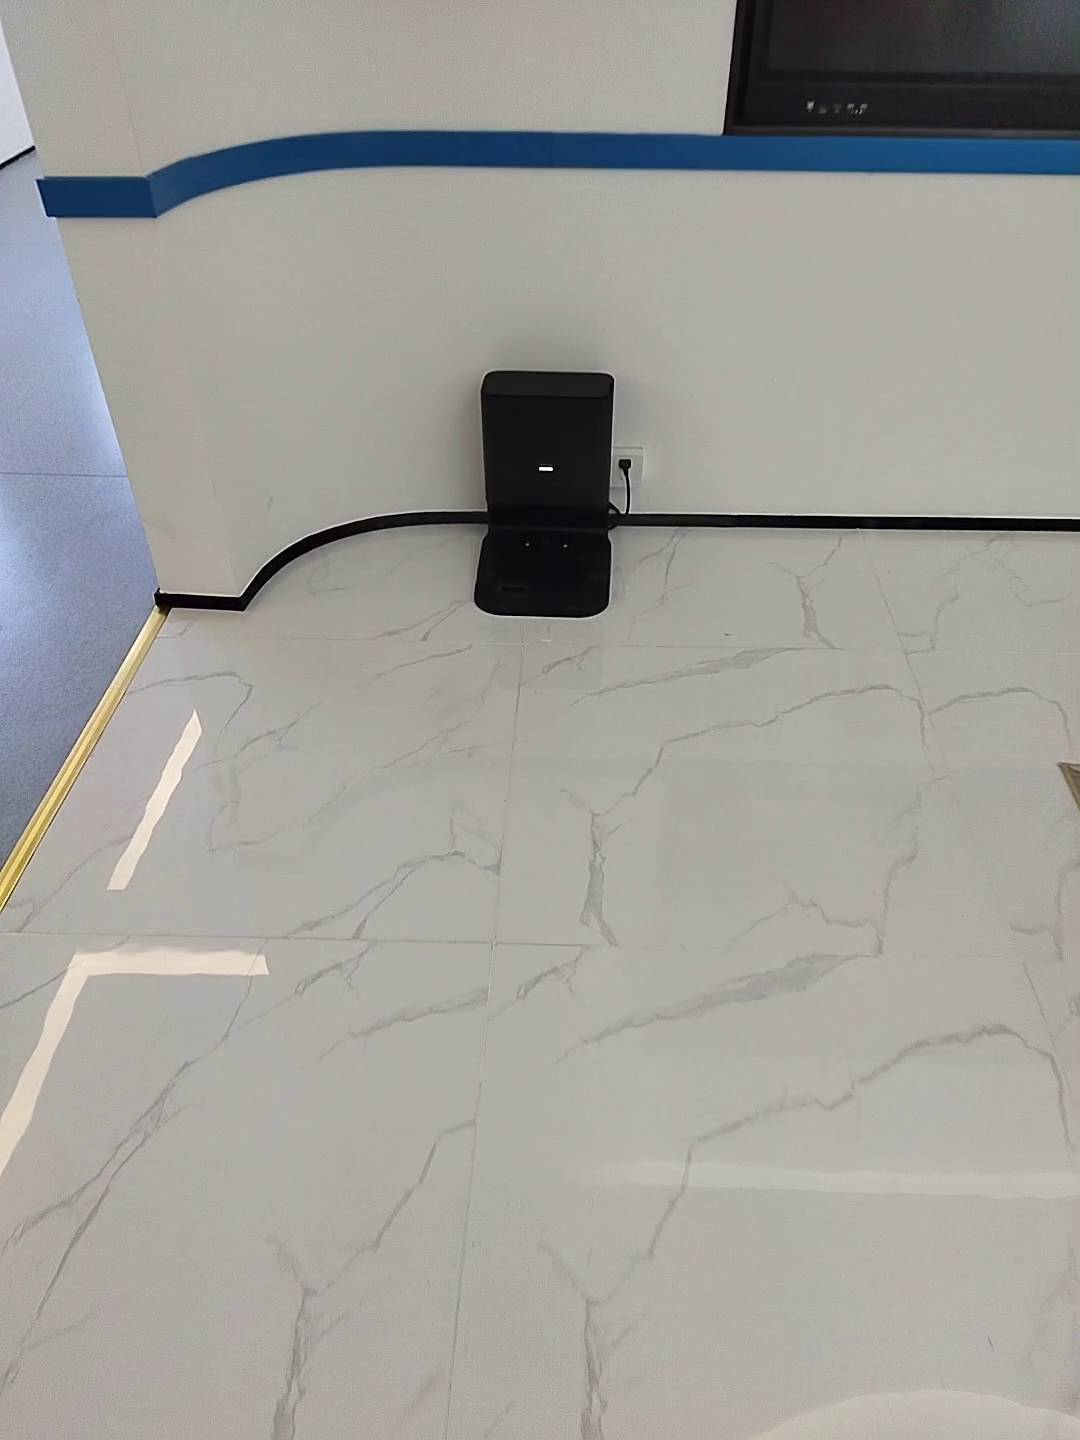dust collecting barrel: (475, 369, 618, 615)
